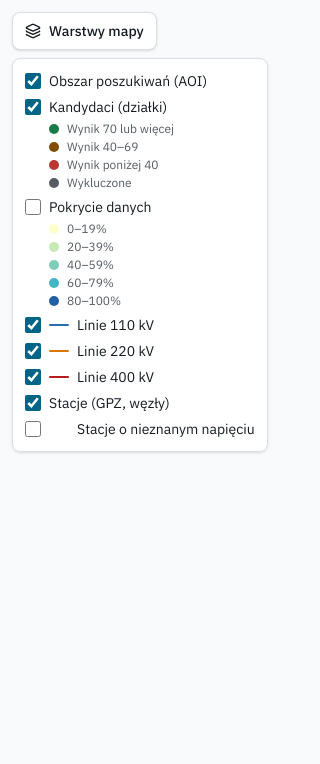
Test: MapView coverage layer › says so when the coverage cannot be loaded
Step 1. Click the checkbox labelled "Pokrycie danych" → x=33, y=207, box [25,199,41,215]
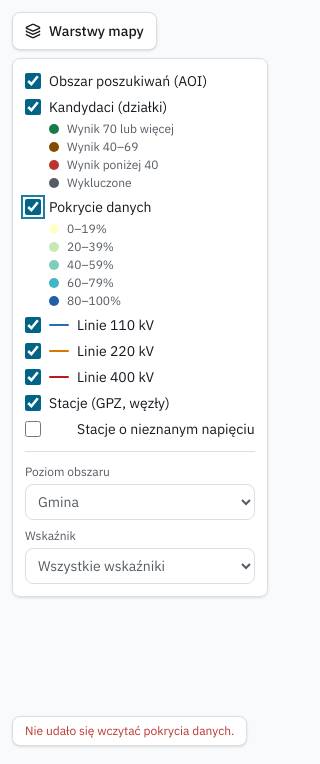
Result: the text "Nie udało się wczytać pokrycia danych." is shown at [12,716,247,746]
